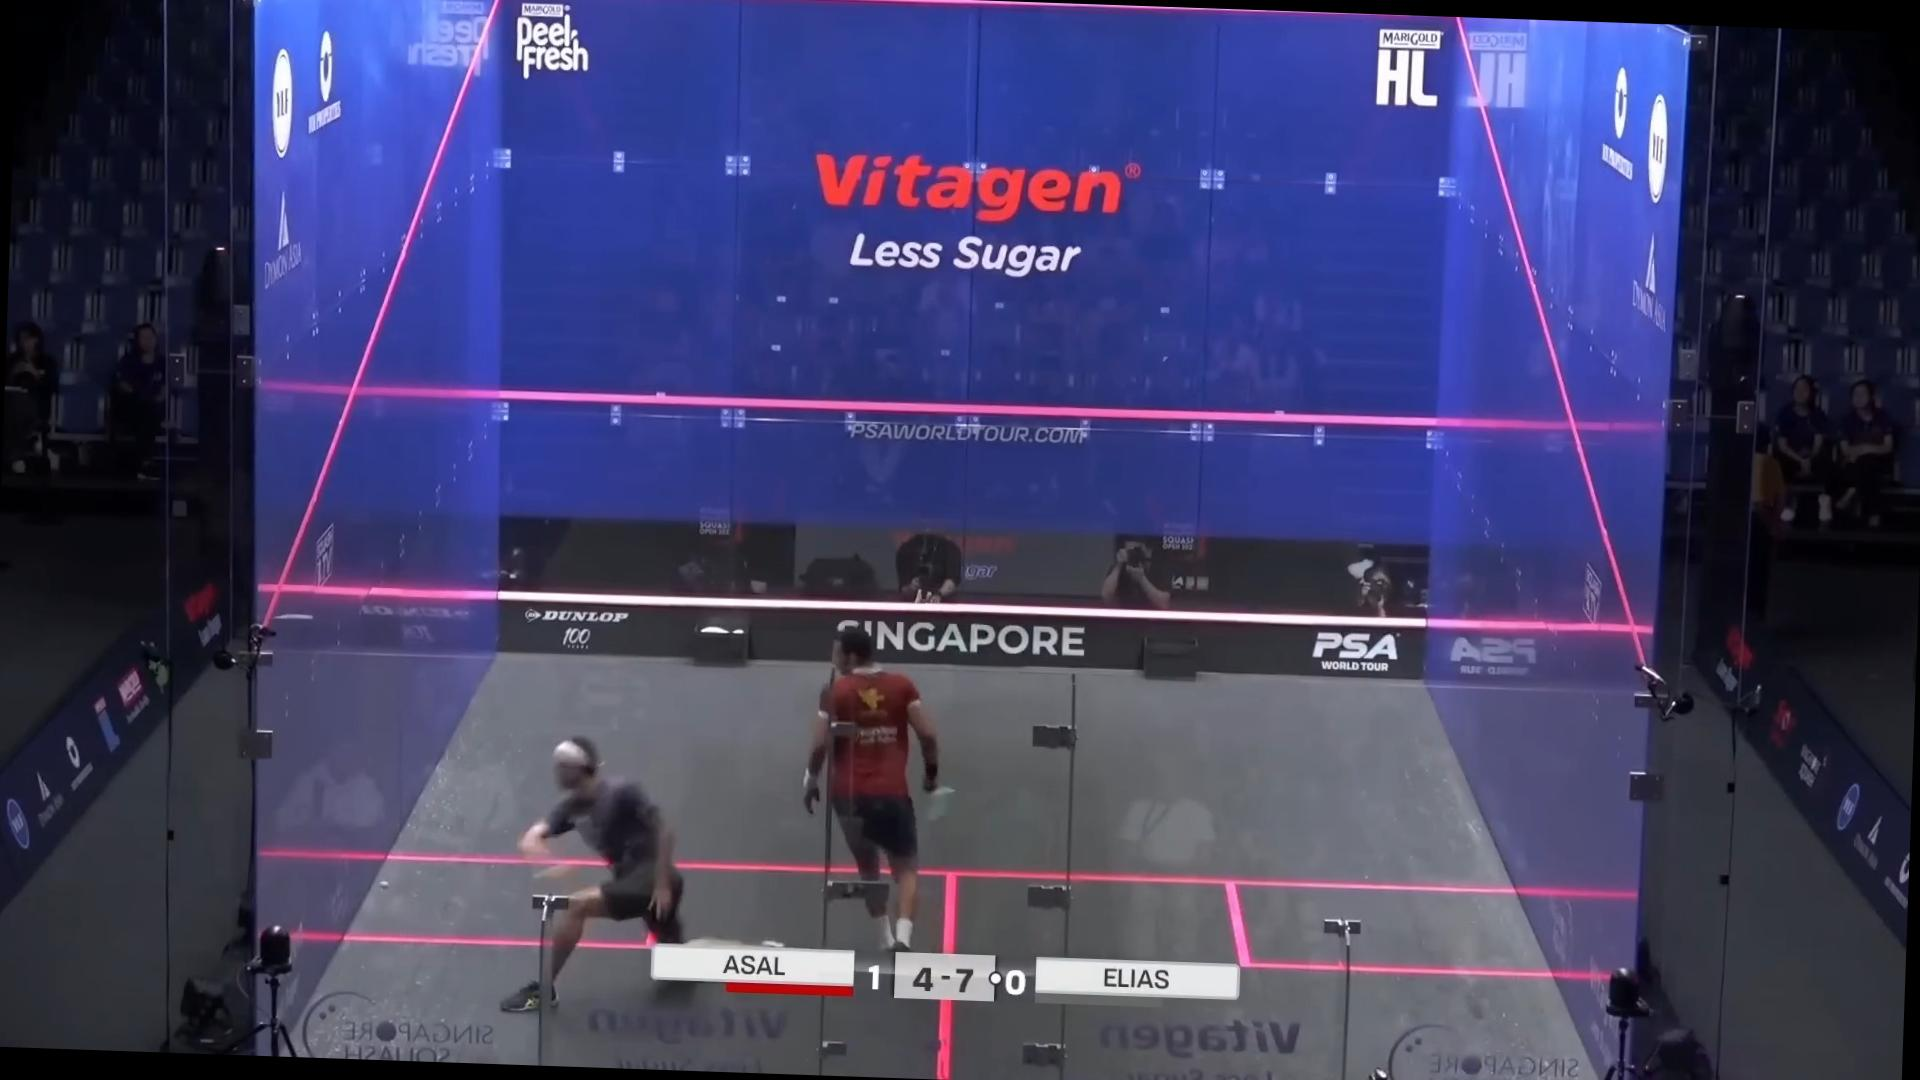Squash-Ball: (367, 860, 398, 910)
